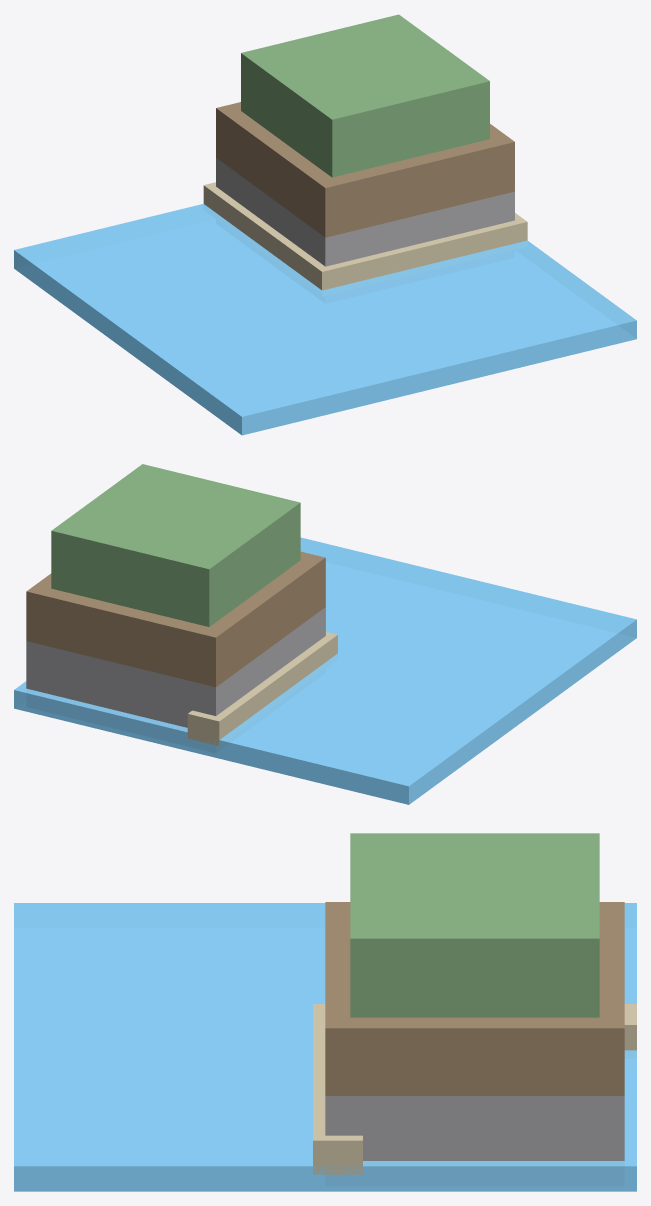
The model's file is craft_dual_Corner.glb.
3 views of the same model, one above another, from view 1: azimuth 30°, elevation 25°; view 2: azimuth 150°, elevation 25°; view 3: azimuth 270°, elevation 25° (orthographic). The views are drawn at different scales.
Visible parts, largest first — view 1: craft_dual_Corner; view 2: craft_dual_Corner; view 3: craft_dual_Corner.
Part boxes in pixels (x1,y1,x2,y2): craft_dual_Corner: [14, 14, 636, 435]; craft_dual_Corner: [14, 464, 636, 804]; craft_dual_Corner: [14, 833, 636, 1191].
Bounding box in the file's own units: 1 × 0.42 × 1.
